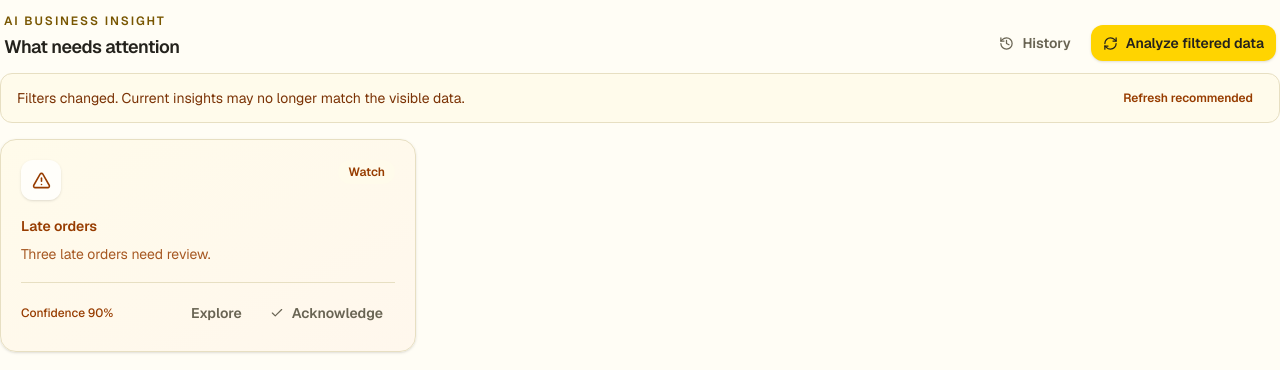
it: dashboard insight controls › offers re-analysis after filters change and replaces the findings
The width and height of the screenshot is (1280, 370).
Click the button "Analyze filtered data" at [1183, 43], box [1091, 25, 1276, 61]
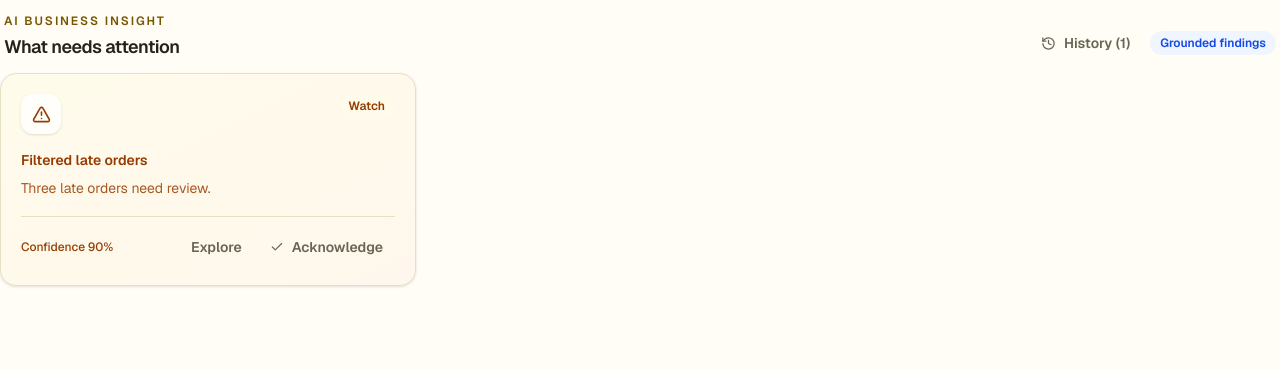
Expected: the heading "Filtered late orders" is shown, [21, 151, 148, 169]
